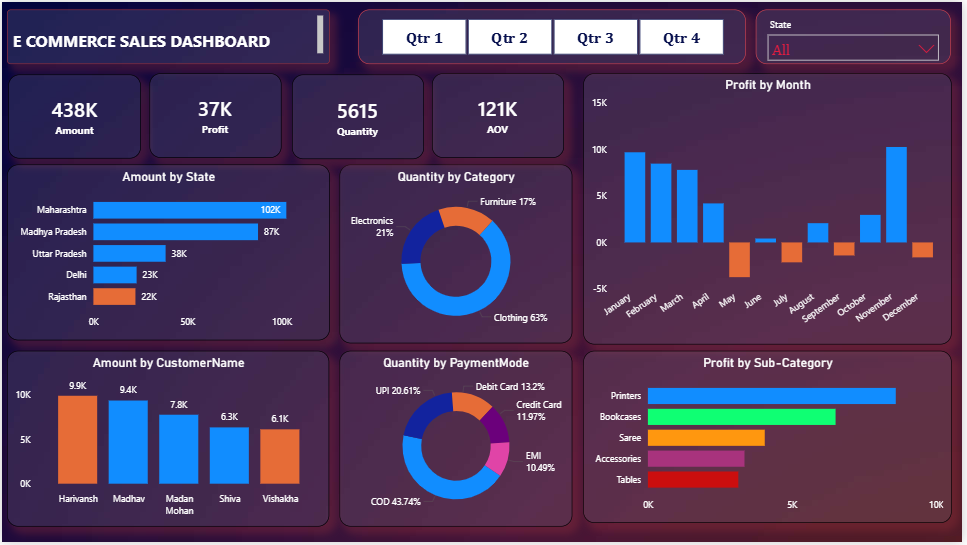

The dashboard page shown, as its layout file describes it:
{"tool":"powerbi","page":{"name":"Page 1","canvas":[1280,720],"ordinal":0},"visuals":[{"type":"textbox","box":[7.1,10,430,72.9],"z":0},{"type":"columnChart","title":"Profit by Month","fields":{"Category":["Orders.Order Date.Variation.Date Hierarchy.Month"],"Y":["Sum(Details.Profit)"]},"box":[774.3,94.3,491.4,361.4],"z":1000},{"type":"barChart","title":"Profit by Sub-Category","fields":{"Category":["Details.Sub-Category"],"Y":["Sum(Details.Profit)"]},"box":[774.5,464.5,491,229.2],"z":2000},{"type":"donutChart","title":"Quantity by Category","fields":{"Category":["Details.Category"],"Y":["Sum(Details.Quantity)"]},"box":[450,217.1,310,238.6],"z":3000},{"type":"donutChart","title":"Quantity by PaymentMode","fields":{"Category":["Details.PaymentMode"],"Y":["Sum(Details.Quantity)"]},"box":[450,464.5,310.1,234],"z":4000},{"type":"cardVisual","title":"Amount","fields":{"Data":["Sum(Details.Amount)"]},"box":[7.6,97.1,177.1,111.8],"z":5000},{"type":"cardVisual","fields":{"Data":["Sum(Details.Profit)"]},"box":[197.1,95.7,175.7,112.9],"z":6000},{"type":"cardVisual","fields":{"Data":["Sum(Details.Quantity)"]},"box":[387.1,97.1,175.7,112.9],"z":7000},{"type":"cardVisual","fields":{"Data":["Sum(Details.AOV)"]},"box":[572.9,95.7,175.7,112.9],"z":8000},{"type":"barChart","title":"Amount by State","fields":{"Category":["Orders.State"],"Y":["Sum(Details.Amount)"]},"box":[7.1,217.1,430,234.3],"z":9000},{"type":"columnChart","title":"Amount by CustomerName","fields":{"Y":["Sum(Details.Amount)"],"Category":["Orders.CustomerName"]},"box":[7.2,464.5,429.5,234],"z":10000},{"type":"slicer","fields":{"Values":["Orders.Order Date.Variation.Date Hierarchy.Quarter"]},"box":[475.7,10,517.1,72.9],"z":11000},{"type":"slicer","fields":{"Values":["Orders.State"]},"box":[1005.7,10,260,72.9],"z":12000}]}

Visuals, with their boxes in screenshot pixels (x1, y1, x2, y2), scaled from the page's 1280x720 canvas onto the 967x545 screenshot:
textbox: <region>5, 8, 330, 63</region>
"Profit by Month" columnChart: <region>585, 71, 956, 345</region>
"Profit by Sub-Category" barChart: <region>585, 352, 956, 525</region>
"Quantity by Category" donutChart: <region>340, 164, 574, 345</region>
"Quantity by PaymentMode" donutChart: <region>340, 352, 574, 529</region>
"Amount" cardVisual: <region>6, 73, 140, 158</region>
cardVisual - Sum(Details.Profit): <region>149, 72, 282, 158</region>
cardVisual - Sum(Details.Quantity): <region>292, 73, 425, 159</region>
cardVisual - Sum(Details.AOV): <region>433, 72, 566, 158</region>
"Amount by State" barChart: <region>5, 164, 330, 342</region>
"Amount by CustomerName" columnChart: <region>5, 352, 330, 529</region>
slicer - Orders.Order Date.Variation.Date Hierarchy.Quarter: <region>359, 8, 750, 63</region>
slicer - Orders.State: <region>760, 8, 956, 63</region>
